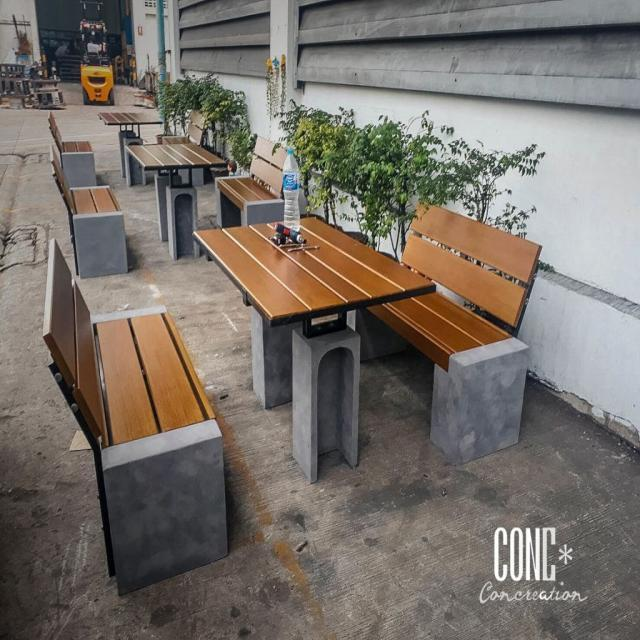table: (184, 202, 440, 366), (123, 134, 236, 184)
